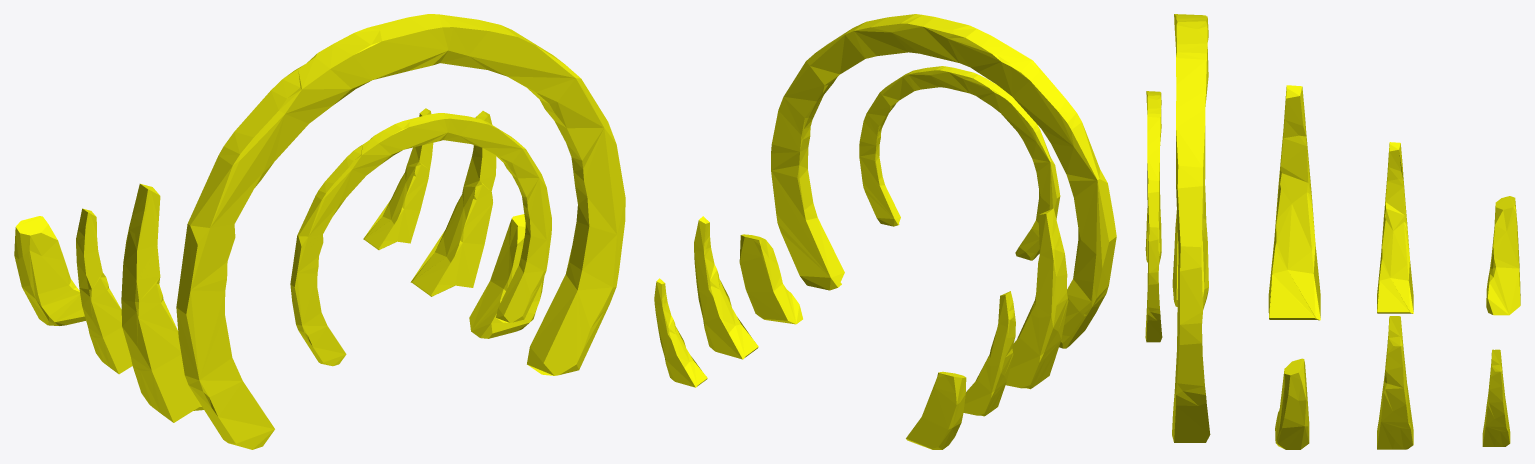
The model's file is Portal_04.glb.
3 renders of one model, left to right at view 1: azimuth 30°, elevation 25°; view 2: azimuth 150°, elevation 25°; view 3: azimuth 270°, elevation 25°, orthographic. The views are drawn at different scales.
Visible parts, largest first — view 1: Portal_04; view 2: Portal_04; view 3: Portal_04.
Boxes of the visible parts, left/top/right/bottom form: Portal_04: left=14, top=14, right=625, bottom=449; Portal_04: left=654, top=14, right=1116, bottom=449; Portal_04: left=1145, top=14, right=1520, bottom=449.
Bounding box in the file's own units: 7.87 × 6.54 × 6.55.
Materials: 1 (1 with a texture image).
